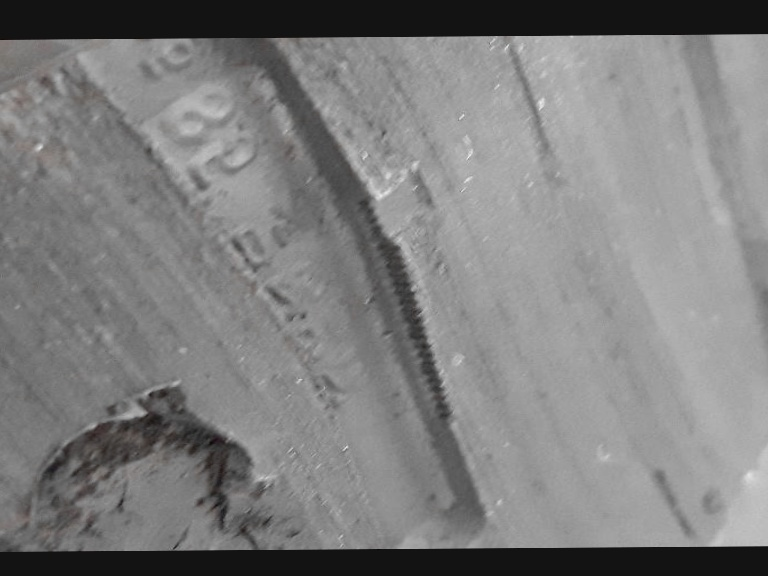temoin:0: (343, 157, 456, 260)
